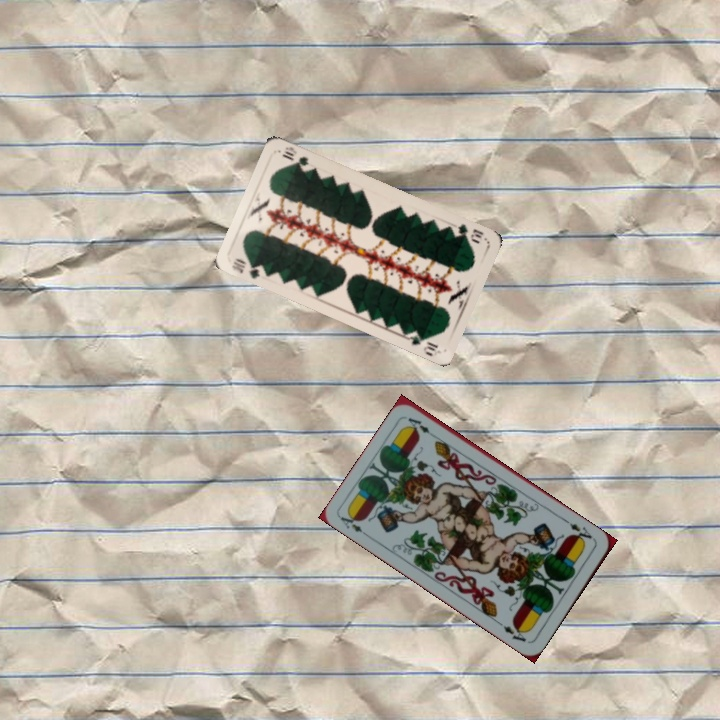EA: (336, 509, 373, 541), (561, 516, 598, 546)
G10: (228, 254, 268, 281), (454, 220, 486, 246)
